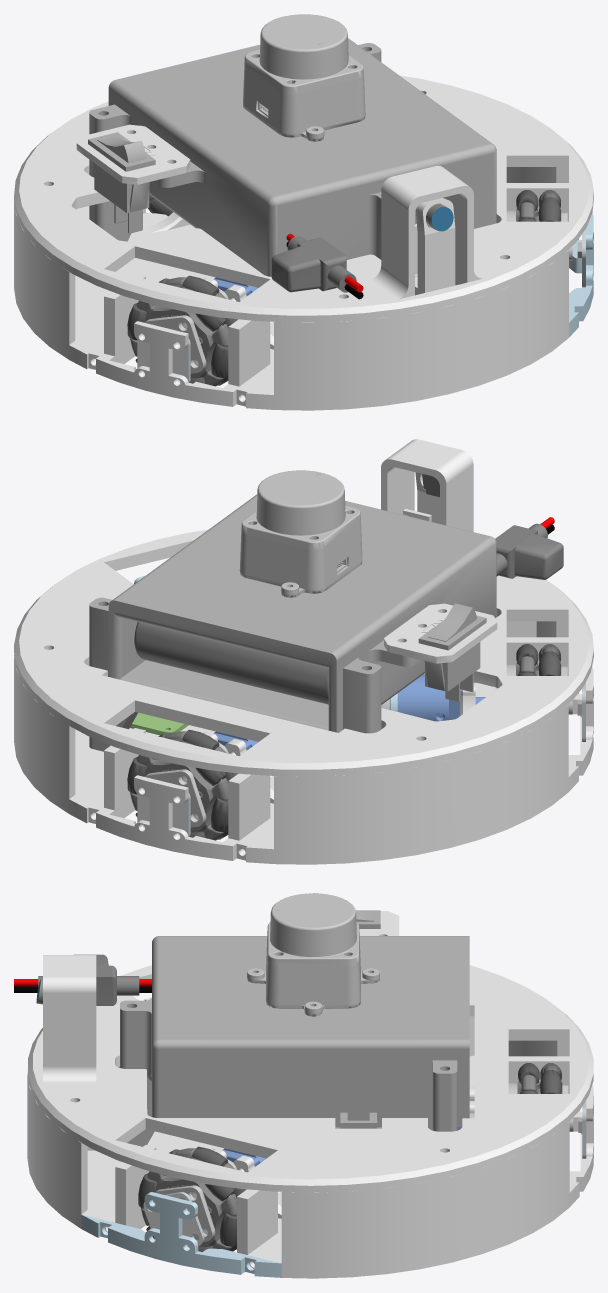
The model's file is kiwi-robot.glb.
The picture shows the model from 3 angles, top to bottom: view 1: azimuth 30°, elevation 25°; view 2: azimuth 150°, elevation 25°; view 3: azimuth 270°, elevation 25°; orthographic projection. The views are drawn at different scales.
Parts seen in each view (by area): view 1: Part 5; view 2: Part 5; view 3: Part 5.
Part boxes in pixels (<box>): Part 5: <box>14,14,593,410</box>; Part 5: <box>14,439,593,864</box>; Part 5: <box>14,893,593,1278</box>.
Size of the model in its own units: 0.23 by 0.119 by 0.2354.
Materials: 1 (1 with a texture image).
